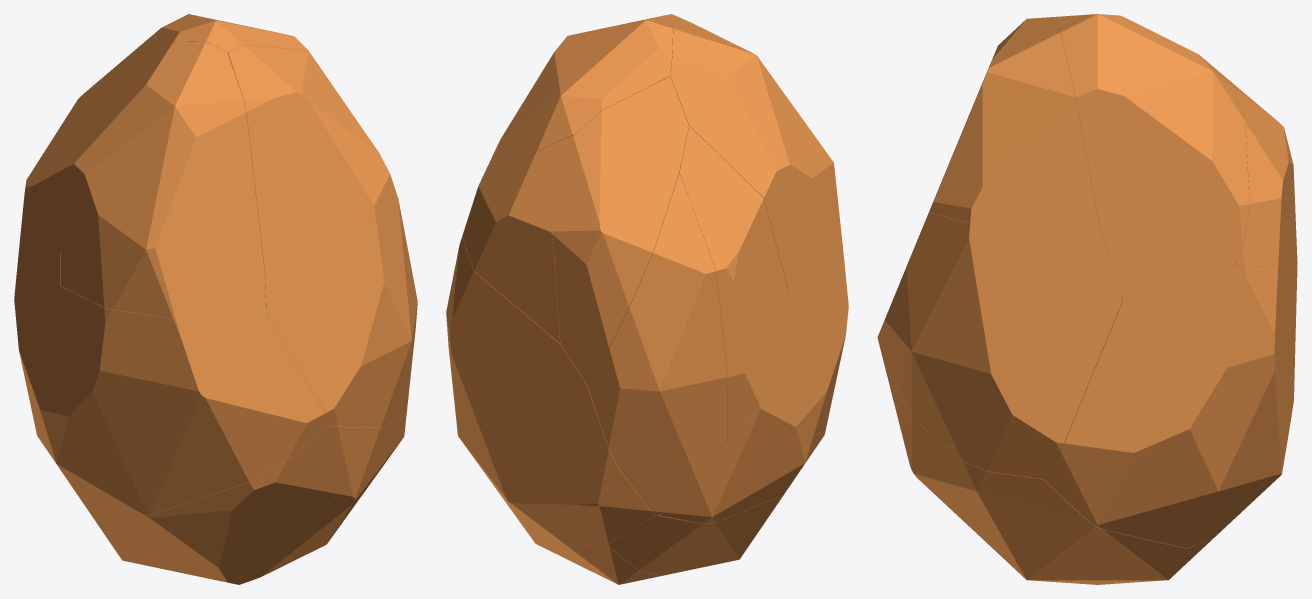
The model's file is BrokeRock.fbx.
3 views of the same model, side by side, from view 1: azimuth 30°, elevation 25°; view 2: azimuth 150°, elevation 25°; view 3: azimuth 270°, elevation 25° (orthographic). The views are drawn at different scales.
Parts seen in each view (by area): view 1: Icosphere_cell.011, Icosphere_cell.009, Icosphere_cell.005, Icosphere_cell, Icosphere_cell.010, Icosphere_cell.002, Icosphere_cell.006, Icosphere_cell.007, Icosphere_cell.003, Icosphere_cell.004; view 2: Icosphere_cell.001, Icosphere_cell.004, Icosphere_cell.003, Icosphere_cell.009, Icosphere_cell.011, Icosphere_cell.002, Icosphere_cell.007, Icosphere_cell.008, Icosphere_cell.010, Icosphere_cell.006; view 3: Icosphere_cell.001, Icosphere_cell.005, Icosphere_cell.007, Icosphere_cell, Icosphere_cell.006, Icosphere_cell.008, Icosphere_cell.003, Icosphere_cell.009.
Part boxes in pixels (box(x1,y1,x2,y2)): Icosphere_cell.011: box(18, 286, 330, 514); Icosphere_cell.009: box(60, 41, 266, 318); Icosphere_cell.005: box(265, 186, 417, 427); Icosphere_cell: box(228, 45, 393, 273); Icosphere_cell.010: box(75, 425, 367, 583); Icosphere_cell.002: box(14, 91, 122, 344); Icosphere_cell.006: box(234, 409, 407, 584); Icosphere_cell.007: box(154, 14, 308, 53); Icosphere_cell.003: box(53, 34, 159, 138); Icosphere_cell.004: box(26, 110, 96, 183); Icosphere_cell.001: box(446, 237, 655, 546); Icosphere_cell.004: box(587, 173, 727, 515); Icosphere_cell.003: box(552, 76, 688, 384); Icosphere_cell.009: box(670, 25, 842, 293); Icosphere_cell.011: box(658, 241, 848, 523); Icosphere_cell.002: box(679, 126, 789, 443); Icosphere_cell.007: box(467, 18, 672, 219); Icosphere_cell.008: box(462, 135, 574, 343); Icosphere_cell.010: box(606, 434, 824, 575); Icosphere_cell.006: box(509, 507, 661, 584); Icosphere_cell.001: box(1043, 265, 1295, 548); Icosphere_cell.005: box(877, 201, 1122, 479); Icosphere_cell.007: box(1059, 14, 1249, 300); Icosphere_cell: box(929, 28, 1100, 232); Icosphere_cell.006: box(902, 402, 1212, 584); Icosphere_cell.008: box(1233, 87, 1289, 268); Icosphere_cell.003: box(1208, 62, 1296, 287); Icosphere_cell.009: box(930, 15, 1079, 208).
Bounding box in the file's own units: 2.9 × 4.74 × 3.16.
